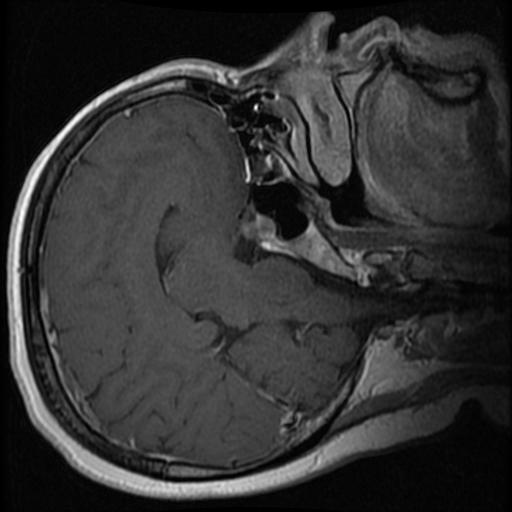pituitary tumour: (242, 214, 292, 253)
